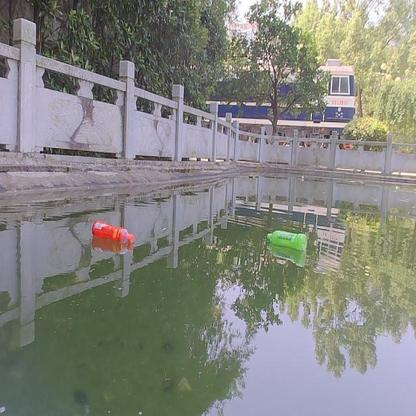plastic bottle: (90, 221, 135, 245), (265, 229, 308, 250)
